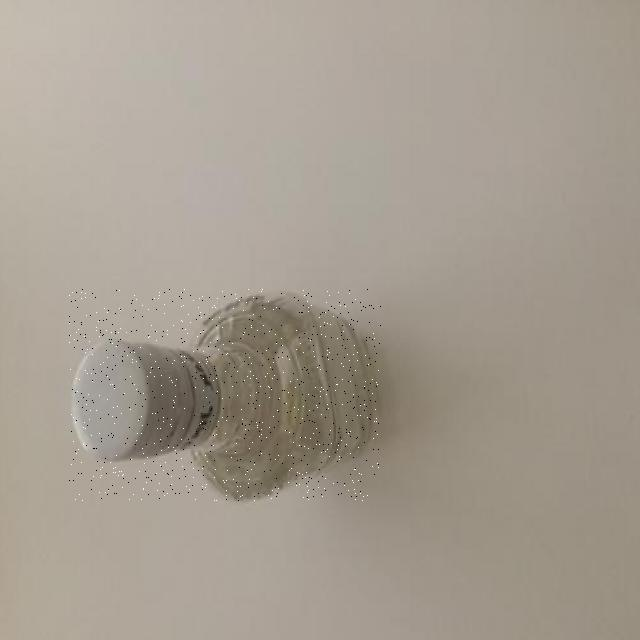glass: (69, 289, 381, 500)
